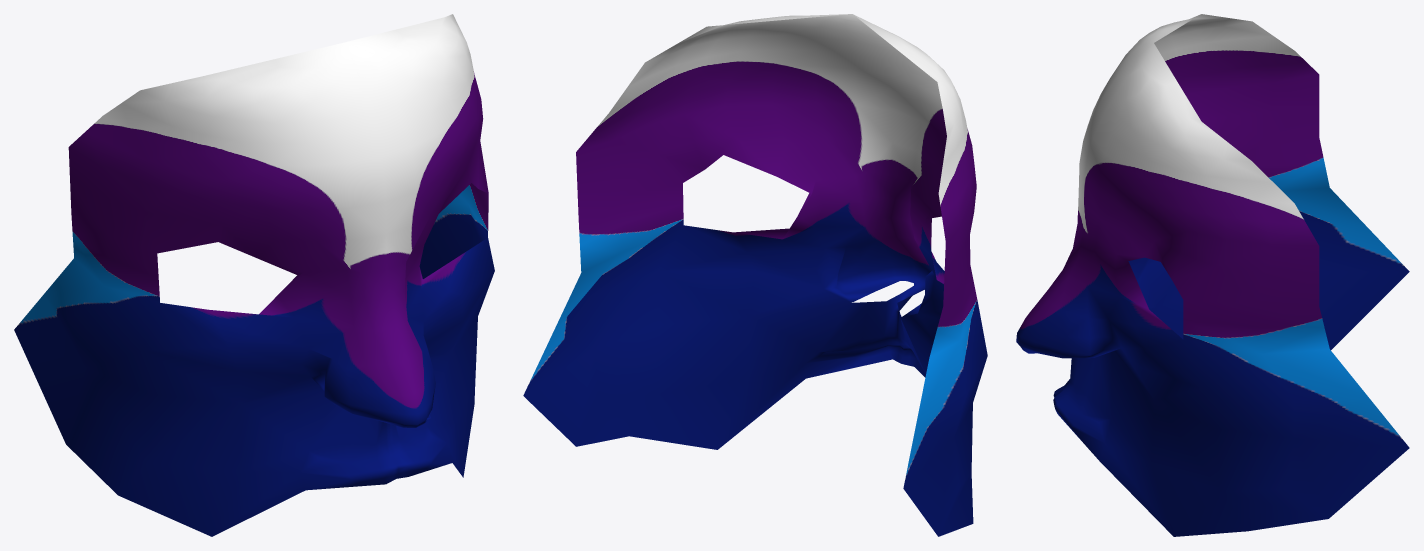
File: StrengthMask_Mask.fbx
3 views of the same model, side by side, from view 1: azimuth 30°, elevation 25°; view 2: azimuth 150°, elevation 25°; view 3: azimuth 270°, elevation 25° (orthographic). The views are drawn at different scales.
Visible parts, largest first — view 1: pSphere1; view 2: pSphere1; view 3: pSphere1.
Boxes of the visible parts, left/top/right/bottom form: pSphere1: left=14, top=14, right=494, bottom=536; pSphere1: left=523, top=14, right=987, bottom=536; pSphere1: left=1016, top=14, right=1409, bottom=536.
Size of the model in its own units: 4.86 by 5.49 by 4.49.
